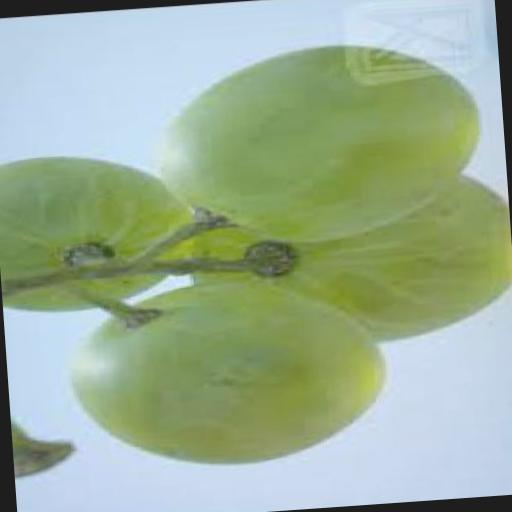biodegradable: (144, 34, 486, 249), (60, 268, 389, 472), (187, 165, 512, 352), (0, 145, 194, 313)
